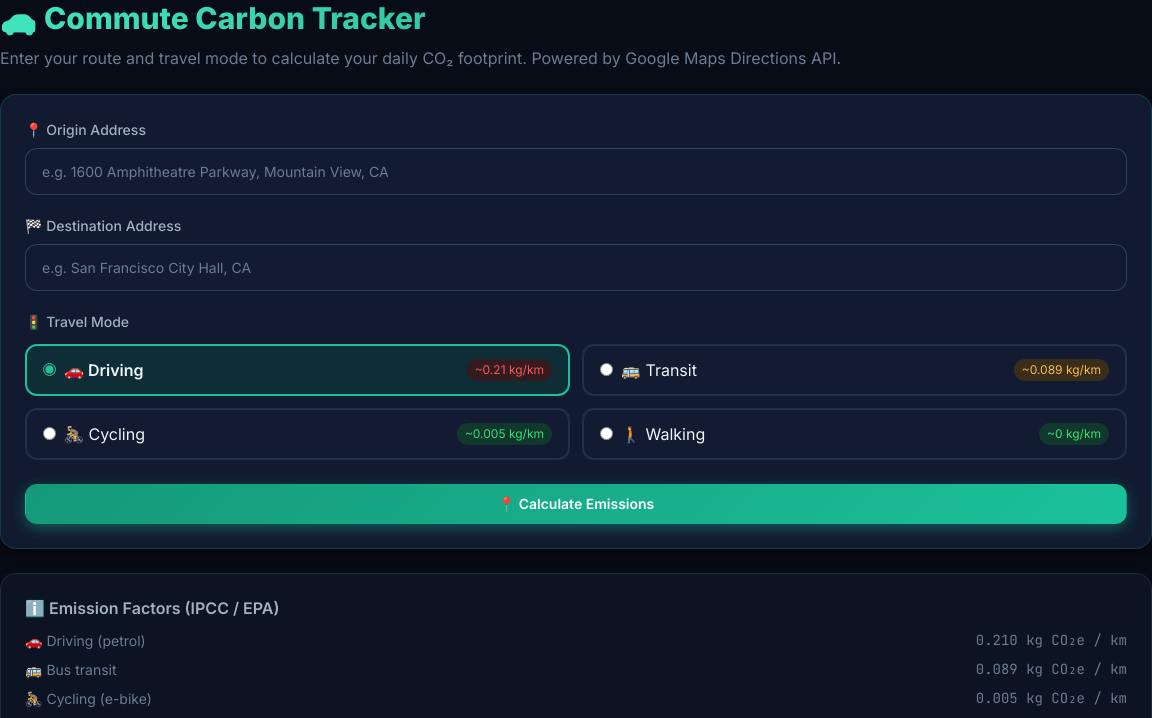
it: CommutePage › shows emission calculation result on successful response
The image size is (1152, 718).
Type "123 St" into the field labelled "📍 Origin Address" at (576, 171), box top-left (25, 148), bottom-right (1127, 194)
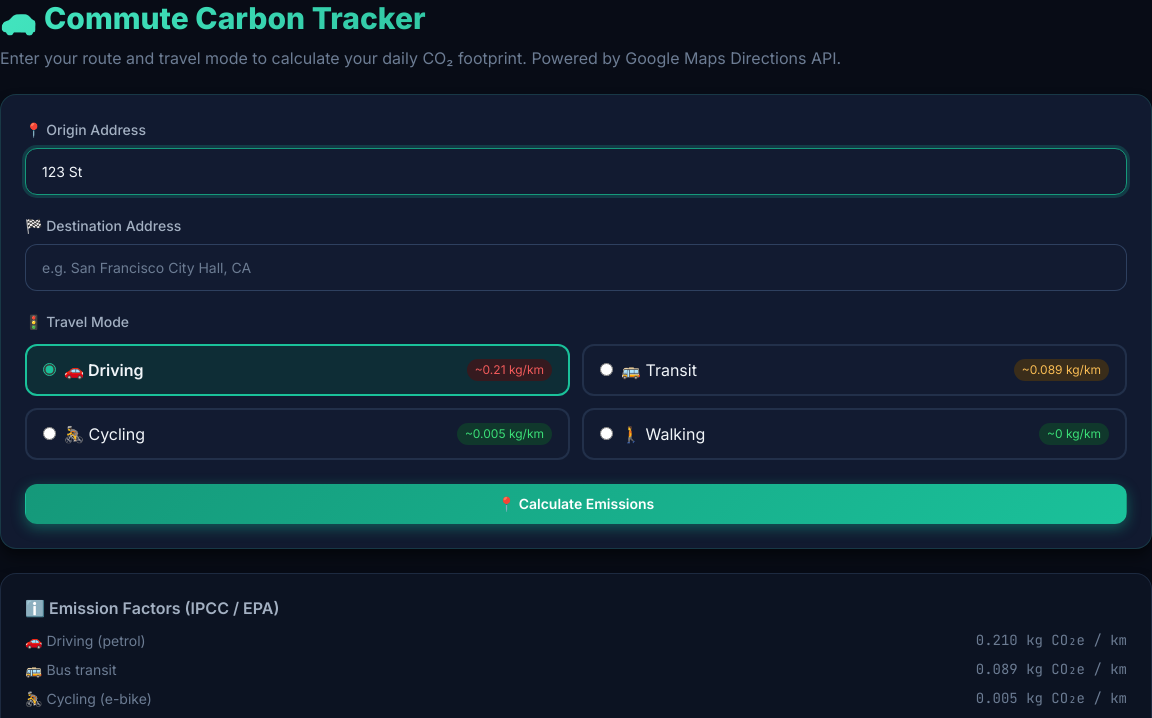
Type "456 Ave" into the field labelled "🏁 Destination Address" at (576, 267), box top-left (25, 244), bottom-right (1127, 290)
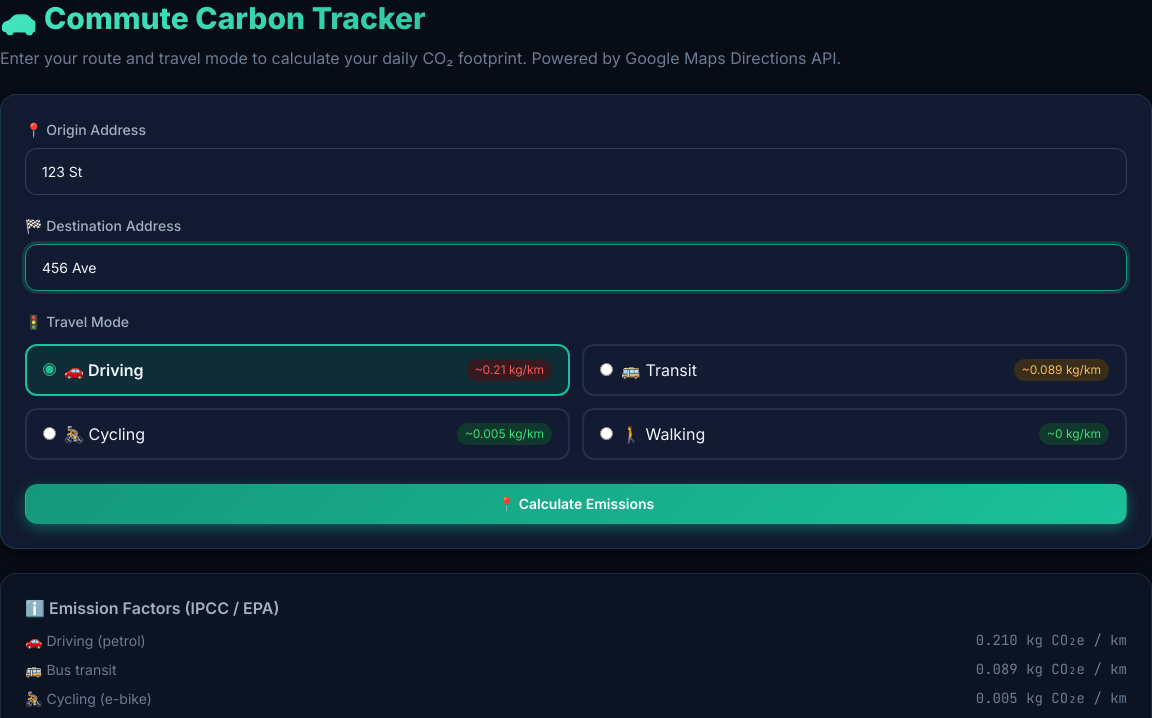
Click the button "📍 Calculate Emissions" at (576, 504), box top-left (25, 484), bottom-right (1127, 524)
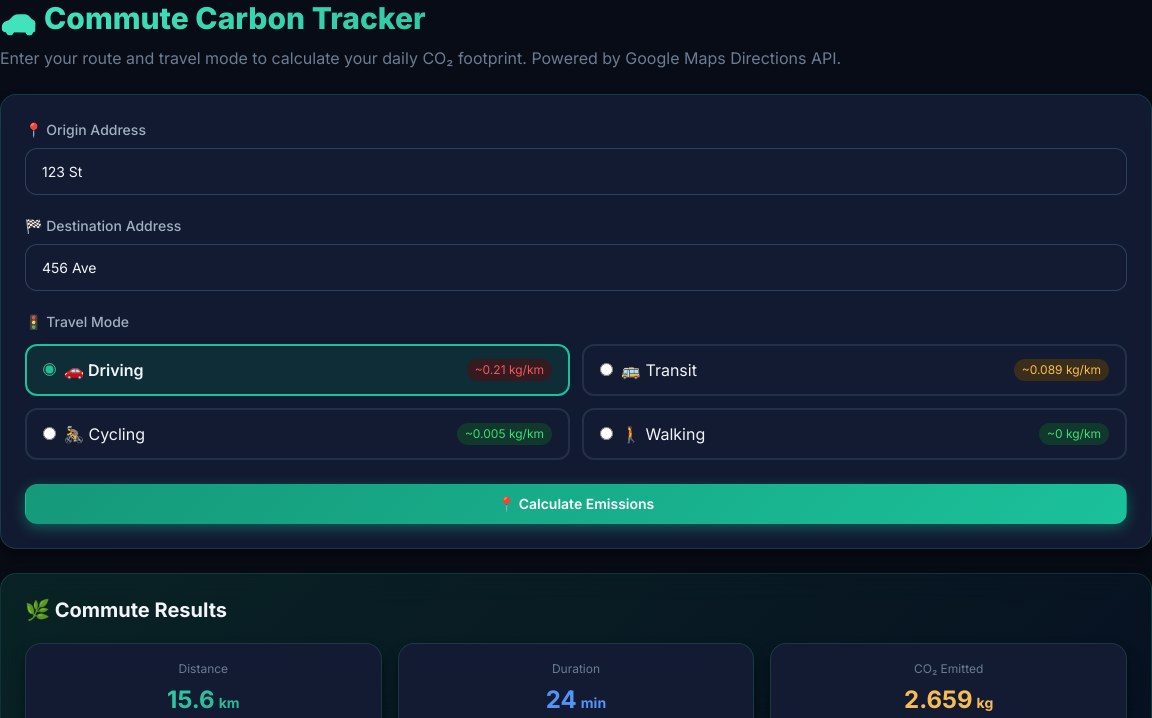
Expected: the text "15.6" is shown, top-left (167, 684), bottom-right (215, 714)
Expected: the text "24" is shown, top-left (546, 684), bottom-right (577, 714)
Expected: the text "2.659" is shown, top-left (904, 684), bottom-right (972, 714)
